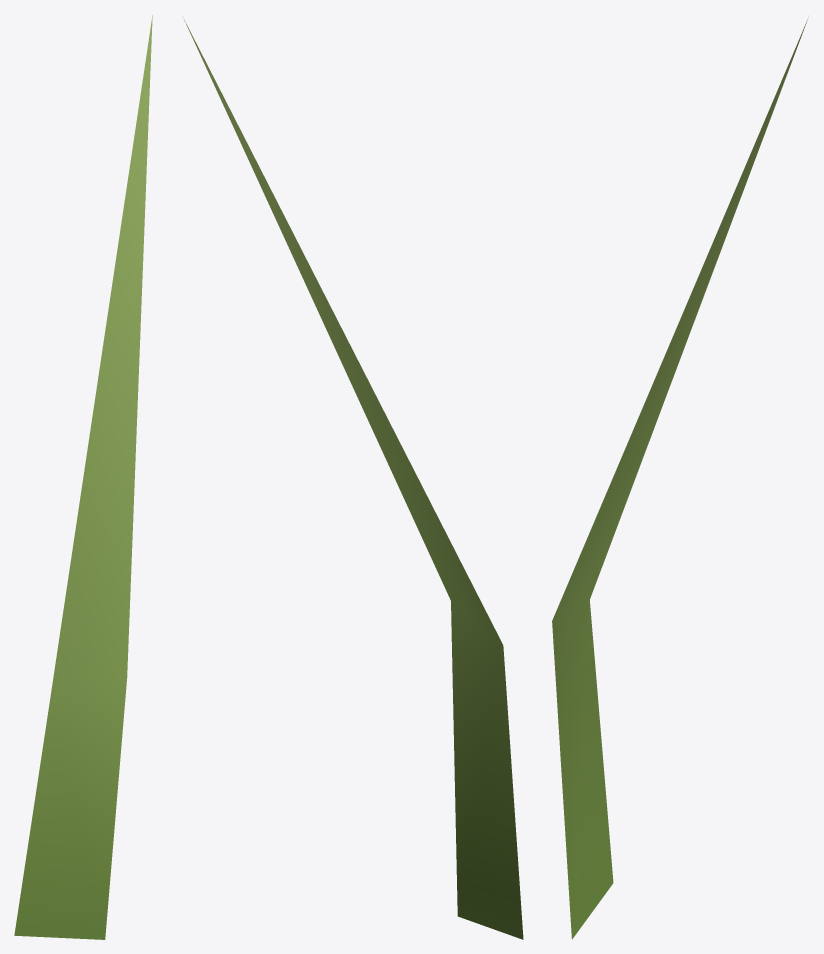
The model's file is grassblade_001.fbx.
3 views of the same model, side by side, from view 1: azimuth 30°, elevation 25°; view 2: azimuth 150°, elevation 25°; view 3: azimuth 270°, elevation 25° (orthographic). The views are drawn at different scales.
Visible parts, largest first — view 1: grassblade.001; view 2: grassblade.001; view 3: grassblade.001.
Part boxes in pixels (bbox=[...]): grassblade.001: bbox=[14, 15, 152, 939]; grassblade.001: bbox=[182, 16, 523, 939]; grassblade.001: bbox=[552, 19, 807, 939].
Size of the model in its own units: 16.73 by 60.19 by 13.89.
1 material, 1 textured.
